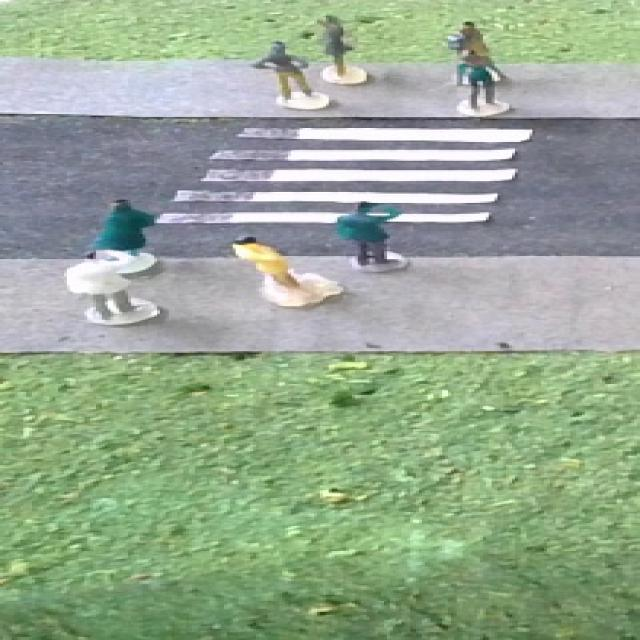person: (217, 233, 334, 305), (61, 249, 152, 329), (328, 196, 420, 275), (100, 194, 173, 275), (248, 37, 323, 113), (309, 14, 377, 86), (451, 46, 512, 118), (446, 16, 493, 46)
